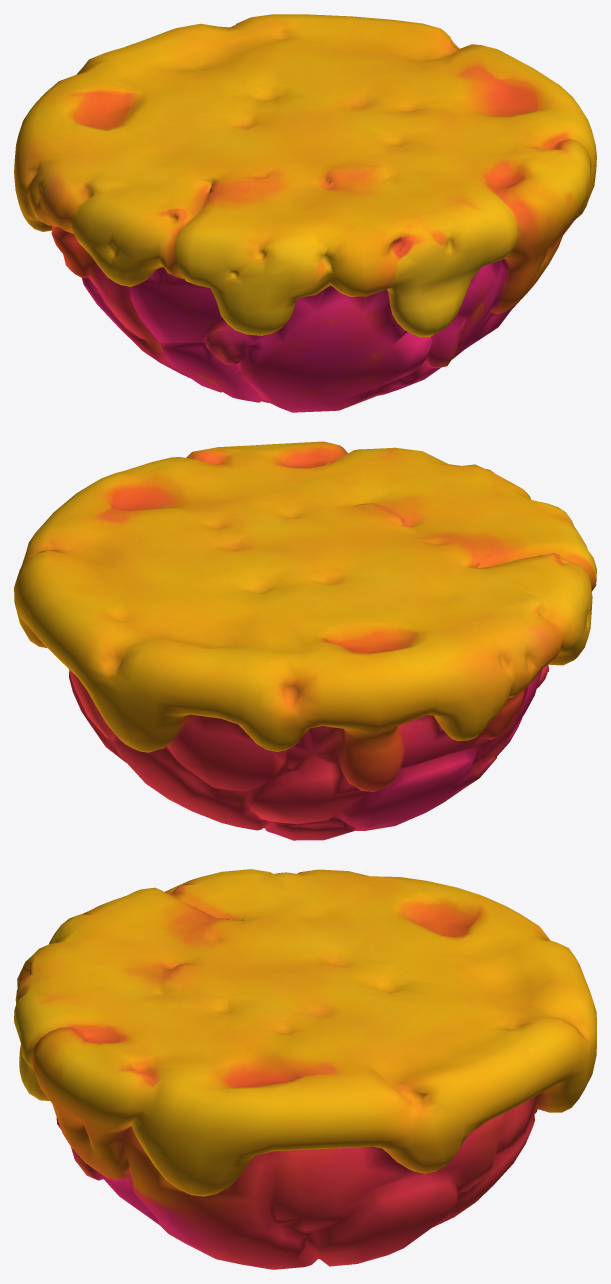
The model's file is dream-saucer-raspberry.glb.
The picture shows the model from 3 angles, top to bottom: view 1: azimuth 30°, elevation 25°; view 2: azimuth 150°, elevation 25°; view 3: azimuth 270°, elevation 25°; orthographic projection. The views are drawn at different scales.
Visible parts, largest first — view 1: tripo_node_d4afc613-7b73-4e74-99a9-6811179c206d; view 2: tripo_node_d4afc613-7b73-4e74-99a9-6811179c206d; view 3: tripo_node_d4afc613-7b73-4e74-99a9-6811179c206d.
Boxes of the visible parts, bbox=[...] form: tripo_node_d4afc613-7b73-4e74-99a9-6811179c206d: bbox=[14, 14, 596, 412]; tripo_node_d4afc613-7b73-4e74-99a9-6811179c206d: bbox=[14, 441, 596, 840]; tripo_node_d4afc613-7b73-4e74-99a9-6811179c206d: bbox=[14, 869, 596, 1269].
Bounding box in the file's own units: 0.9995 × 0.5063 × 0.9976.
Materials: 1 (1 with a texture image).
